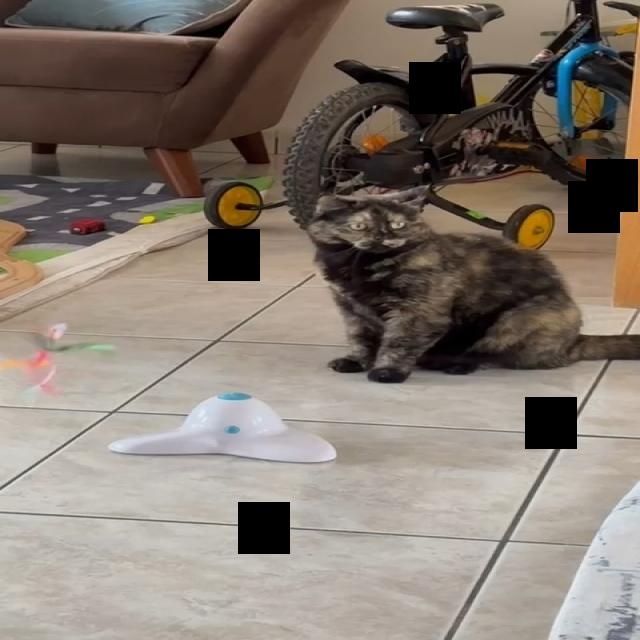authorized: (304, 184, 639, 383)
